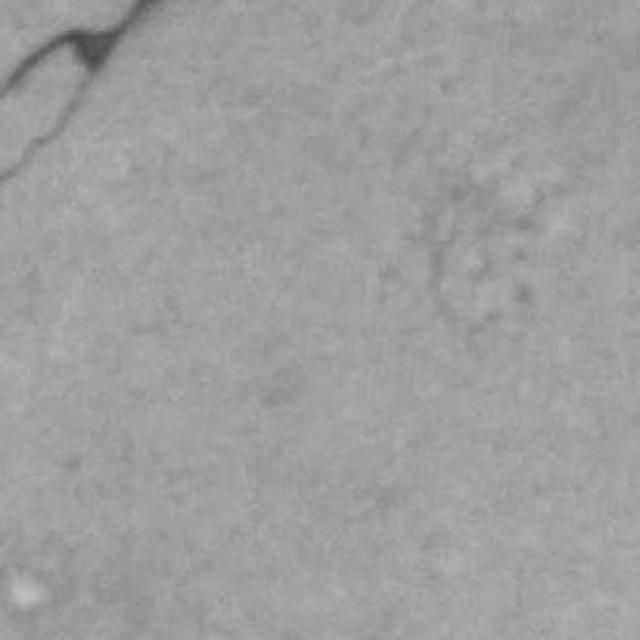crack: (0, 0, 163, 182), (2, 0, 159, 95)
